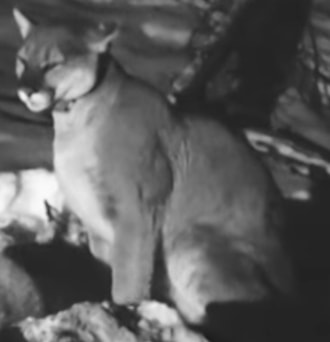Mountain Lion: (10, 6, 279, 302)
